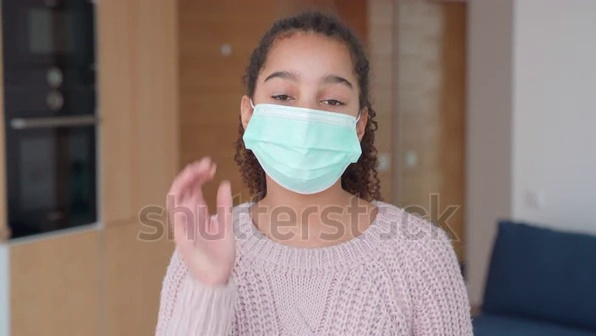Mask: (242, 105, 366, 200)
